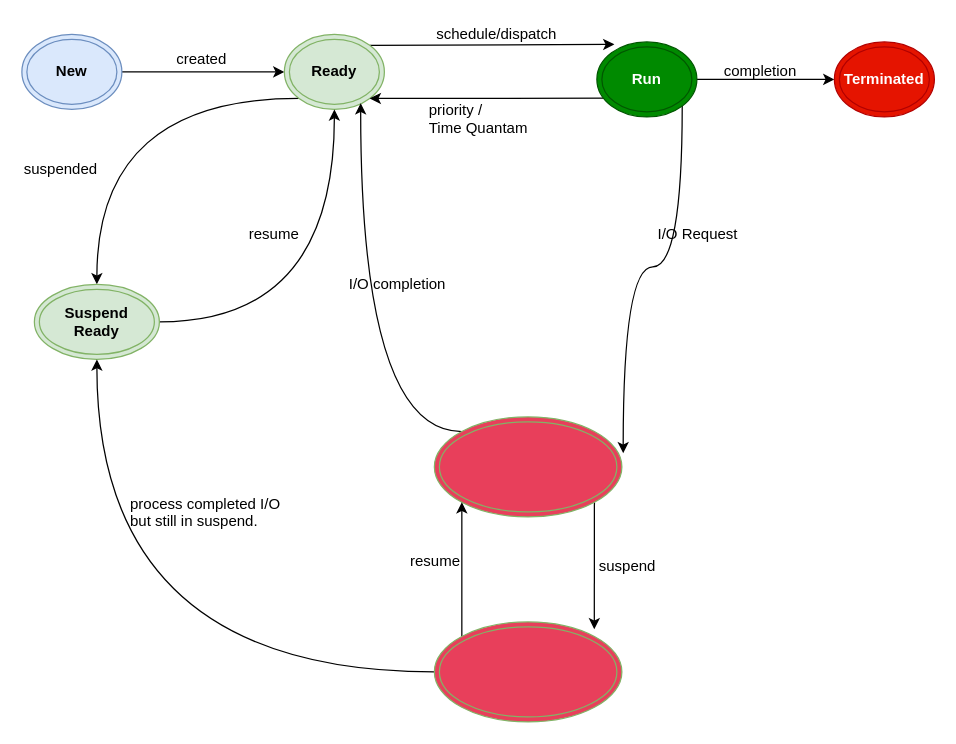
Image size: 956x744. Some labels were removed from this diagram. Here are the shapes that lost their labels. From the top down, the centre of each, then its label:
At point 527,466: "I/O State or Block State".
At point 527,671: "Suspend I/O or Suspend Blocked".
